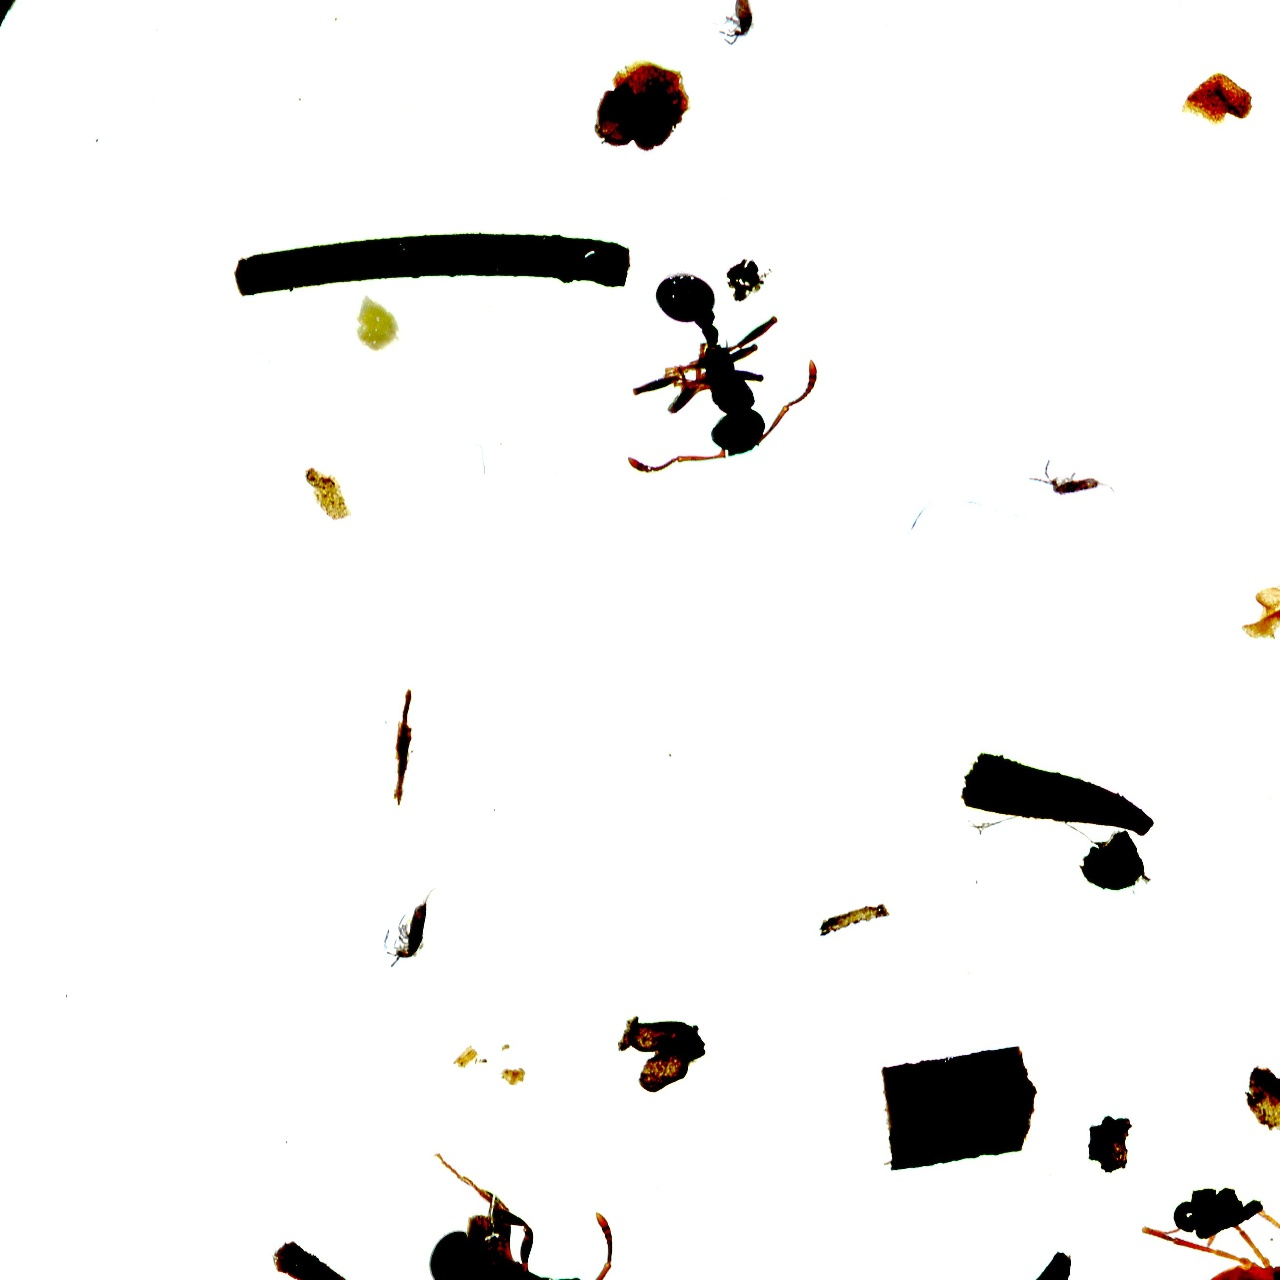arthropod: (625, 247, 829, 484), (349, 1131, 666, 1280), (1125, 1200, 1280, 1280), (1016, 449, 1143, 519), (376, 870, 448, 980), (708, 0, 769, 67)
